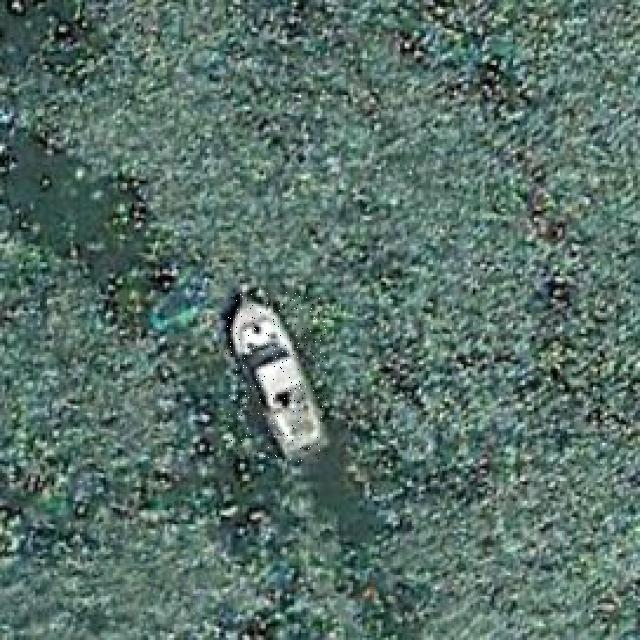boat: (226, 292, 327, 462)
